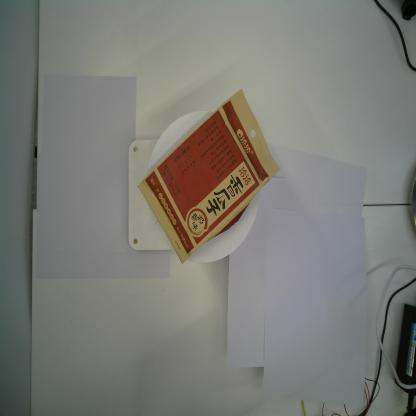Dried Food: (135, 86, 282, 267)
